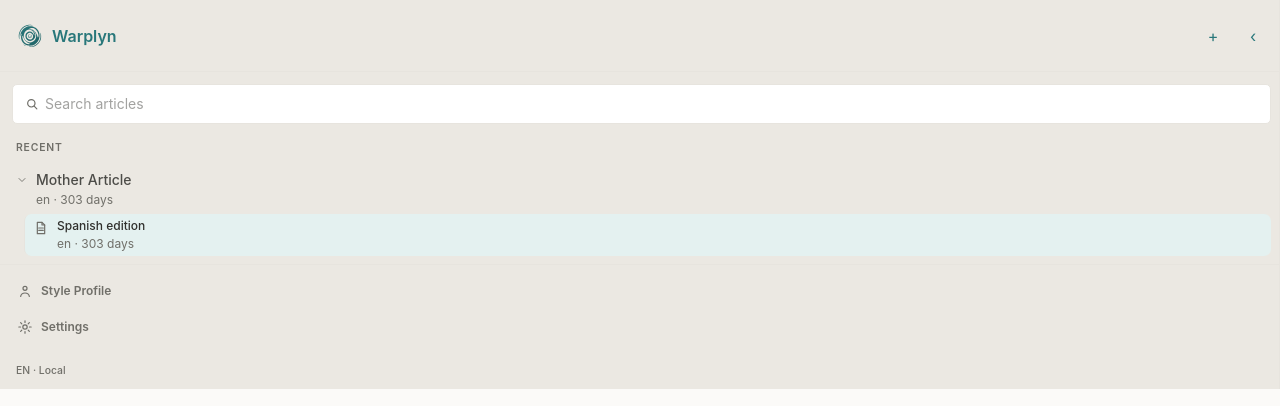
Test: ArticleLibraryPanel › offers only Delete for a translation row
Right-click the button "Spanish edition en · 303 days" at [101, 226], box [24,214,1271,256]
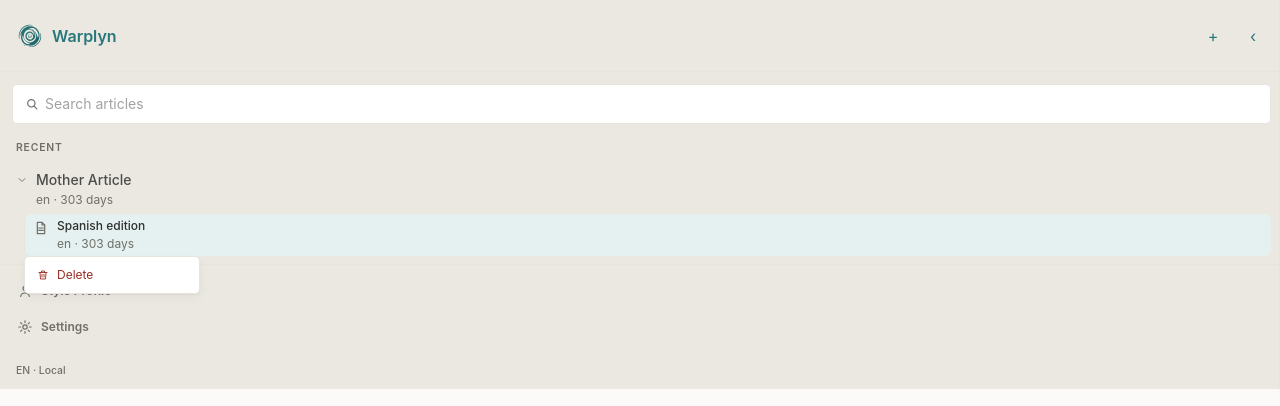
Now the menu items read "Delete", in this order, box [29,261,195,289]
